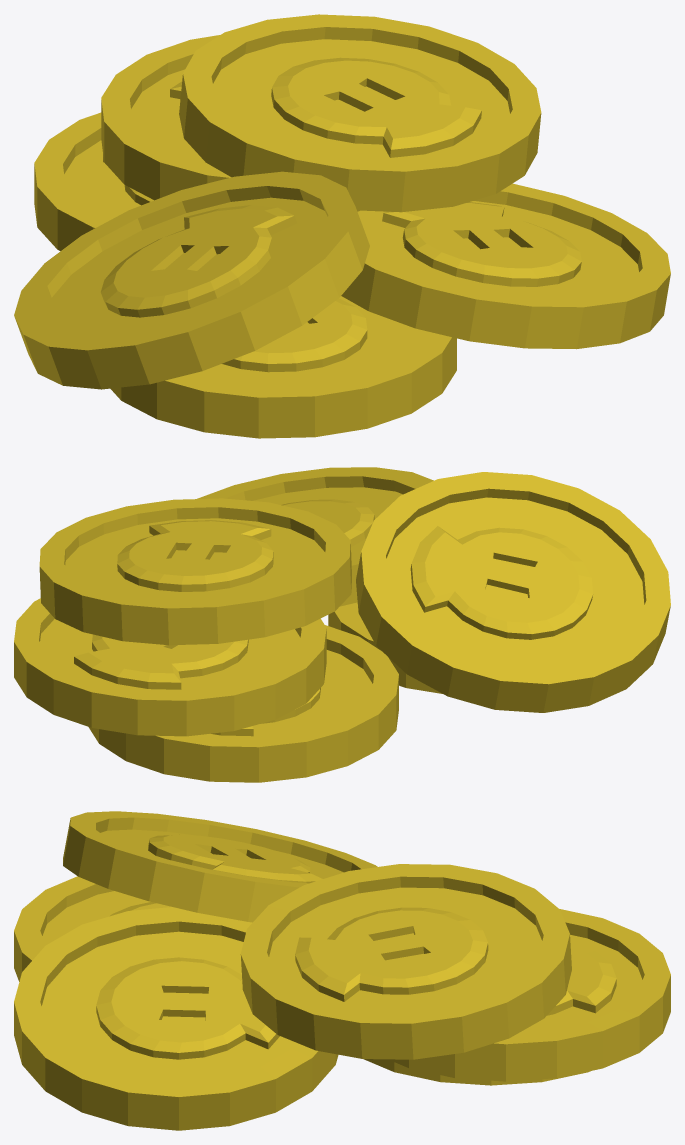
File: Coin pile.FBX
3 renders of one model, top to bottom at view 1: azimuth 30°, elevation 25°; view 2: azimuth 150°, elevation 25°; view 3: azimuth 270°, elevation 25°, orthographic. The views are drawn at different scales.
Visible parts, largest first — view 1: Coin 6, Coin 3, Coin 2, Coin 1, Coin 5, Coin 4; view 2: Coin 3, Coin 6, Coin 5, Coin 4, Coin 2, Coin 1; view 3: Coin 6, Coin 2, Coin 3, Coin 5, Coin 1, Coin 4.
Boxes of the visible parts, left/top/right/bottom form: Coin 6: left=179, top=14, right=541, bottom=212; Coin 3: left=14, top=171, right=369, bottom=389; Coin 2: left=341, top=183, right=670, bottom=349; Coin 1: left=110, top=296, right=456, bottom=438; Coin 5: left=101, top=35, right=231, bottom=200; Coin 4: left=34, top=112, right=153, bottom=250; Coin 3: left=356, top=472, right=670, bottom=712; Coin 6: left=39, top=498, right=351, bottom=645; Coin 5: left=14, top=598, right=326, bottom=736; Coin 4: left=88, top=625, right=398, bottom=782; Coin 2: left=197, top=467, right=433, bottom=606; Coin 1: left=328, top=602, right=442, bottom=693; Coin 6: left=240, top=864, right=571, bottom=1059; Coin 2: left=14, top=907, right=338, bottom=1130; Coin 3: left=63, top=811, right=377, bottom=922; Coin 5: left=388, top=909, right=670, bottom=1081; Coin 1: left=14, top=876, right=171, bottom=981; Coin 4: left=363, top=1059, right=590, bottom=1085.
Size of the model in its own units: 74.79 by 18.31 by 79.67.
